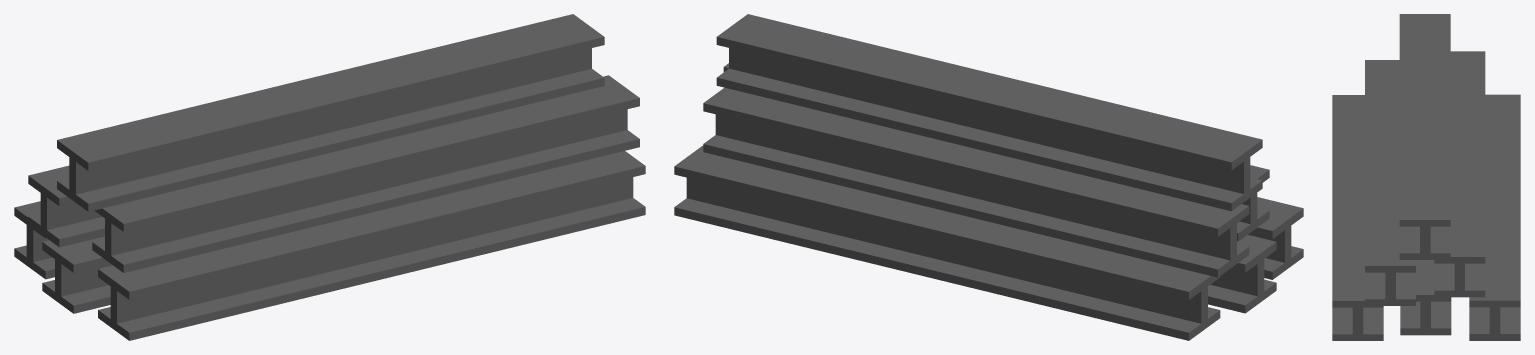
The model's file is SteelBars.obj.
3 renders of one model, left to right at view 1: azimuth 30°, elevation 25°; view 2: azimuth 150°, elevation 25°; view 3: azimuth 270°, elevation 25°, orthographic. The views are drawn at different scales.
Visible parts, largest first — view 1: Cube.007; view 2: Cube.007; view 3: Cube.007.
Part boxes in pixels (x1,y1,x2,y2): Cube.007: (14, 14, 645, 340); Cube.007: (674, 14, 1303, 340); Cube.007: (1332, 14, 1520, 340).
Size of the model in its own units: 7.43 by 1.93 by 2.72.
